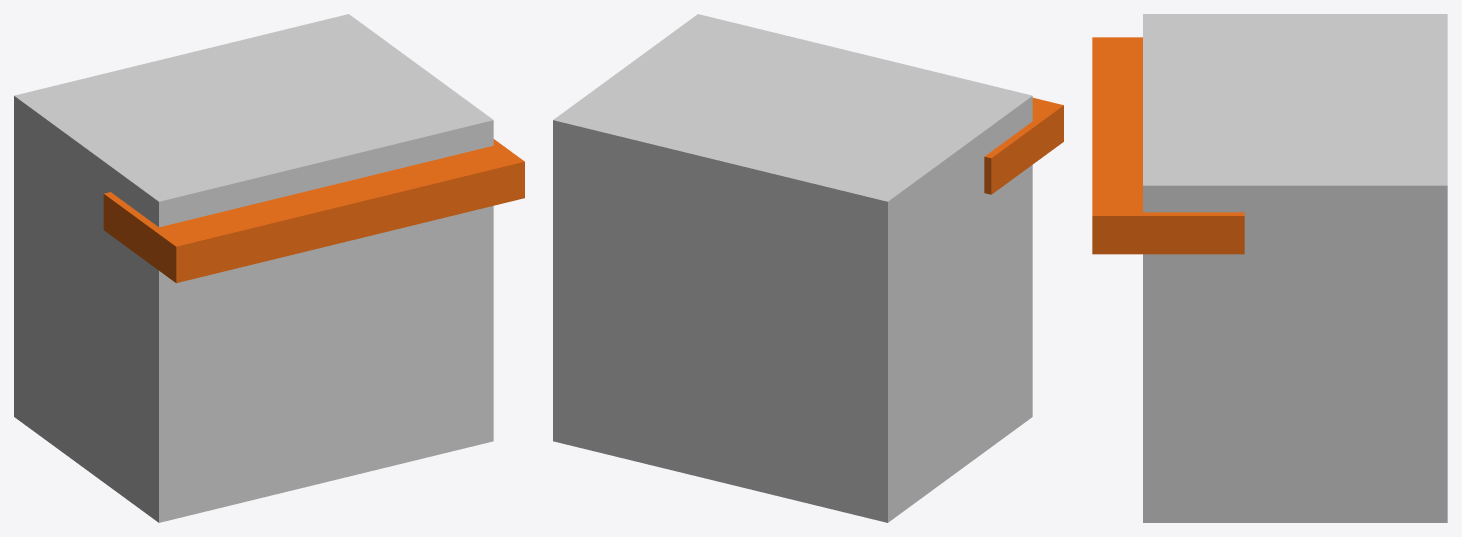
The model's file is shoes.glb.
3 views of the same model, side by side, from view 1: azimuth 30°, elevation 25°; view 2: azimuth 150°, elevation 25°; view 3: azimuth 270°, elevation 25° (orthographic). The views are drawn at different scales.
Size of the model in its own units: 1.78 by 1.56 by 1.49.
